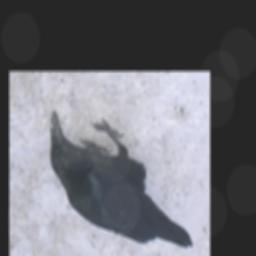Crow: (51, 111, 195, 248)
